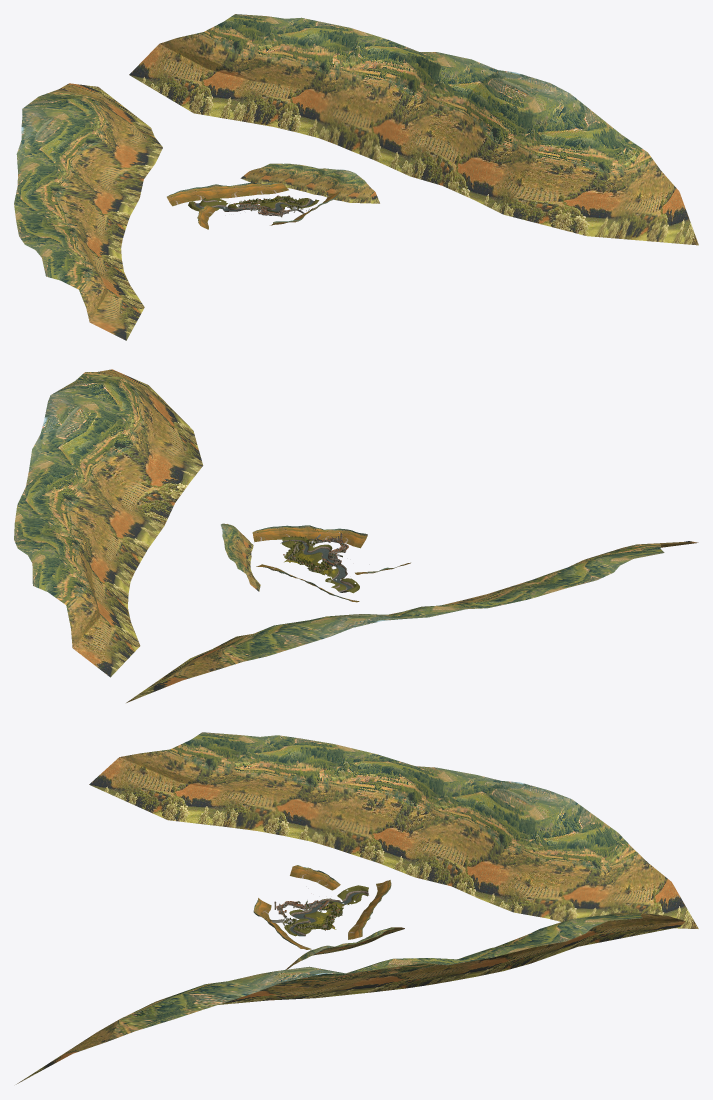
The model's file is map.glb.
3 renders of one model, top to bottom at view 1: azimuth 30°, elevation 25°; view 2: azimuth 150°, elevation 25°; view 3: azimuth 270°, elevation 25°, orthographic. The views are drawn at different scales.
Visible parts, largest first — view 1: backdrop_grp_006_mdl_004_sub_000, backdrop_grp_006_mdl_002_sub_000, backdrop_grp_006_mdl_003_sub_000, backdrop_grp_006_mdl_001_sub_000, backdrop_grp_006_mdl_008_sub_000, backdrop_grp_006_mdl_005_sub_000, backdrop_grp_006_mdl_007_sub_000, backdrop_grp_006_mdl_000_sub_000, backdrop_grp_006_mdl_011_sub_000, backdrop_grp_006_mdl_010_sub_000, backdrop_grp_006_mdl_009_sub_000, backdrop_grp_006_mdl_006_sub_000 (+5 smaller); view 2: backdrop_grp_006_mdl_002_sub_000, backdrop_grp_006_mdl_003_sub_000, backdrop_grp_006_mdl_004_sub_000, backdrop_grp_006_mdl_005_sub_000, backdrop_grp_006_mdl_001_sub_000, backdrop_grp_006_mdl_007_sub_000, backdrop_grp_006_mdl_011_sub_000, backdrop_grp_006_mdl_010_sub_000, backdrop_grp_006_mdl_008_sub_000, backdrop_grp_006_mdl_006_sub_000; view 3: backdrop_grp_006_mdl_007_sub_000, backdrop_grp_006_mdl_008_sub_000, backdrop_grp_006_mdl_011_sub_000, backdrop_grp_006_mdl_010_sub_000, backdrop_grp_006_mdl_006_sub_000, backdrop_grp_006_mdl_004_sub_000, backdrop_grp_006_mdl_003_sub_000, backdrop_grp_006_mdl_001_sub_000, backdrop_grp_006_mdl_009_sub_000, backdrop_grp_006_mdl_002_sub_000, backdrop_grp_006_mdl_005_sub_000, backdrop_grp_006_mdl_000_sub_000.
Part boxes in pixels (bbox=[...]): backdrop_grp_006_mdl_004_sub_000: bbox=[208, 16, 394, 137]; backdrop_grp_006_mdl_002_sub_000: bbox=[410, 70, 569, 214]; backdrop_grp_006_mdl_003_sub_000: bbox=[318, 39, 497, 176]; backdrop_grp_006_mdl_001_sub_000: bbox=[503, 93, 660, 235]; backdrop_grp_006_mdl_008_sub_000: bbox=[16, 109, 143, 230]; backdrop_grp_006_mdl_005_sub_000: bbox=[129, 14, 266, 121]; backdrop_grp_006_mdl_007_sub_000: bbox=[22, 89, 162, 178]; backdrop_grp_006_mdl_000_sub_000: bbox=[587, 168, 698, 245]; backdrop_grp_006_mdl_011_sub_000: bbox=[16, 213, 144, 321]; backdrop_grp_006_mdl_010_sub_000: bbox=[14, 165, 125, 271]; backdrop_grp_006_mdl_009_sub_000: bbox=[90, 292, 144, 340]; backdrop_grp_006_mdl_006_sub_000: bbox=[59, 83, 150, 127]; backdrop_grp_006_mdl_002_sub_000: bbox=[40, 395, 202, 525]; backdrop_grp_006_mdl_003_sub_000: bbox=[17, 434, 163, 581]; backdrop_grp_006_mdl_004_sub_000: bbox=[14, 500, 130, 621]; backdrop_grp_006_mdl_005_sub_000: bbox=[32, 563, 140, 677]; backdrop_grp_006_mdl_001_sub_000: bbox=[51, 372, 202, 464]; backdrop_grp_006_mdl_007_sub_000: bbox=[194, 614, 381, 669]; backdrop_grp_006_mdl_011_sub_000: bbox=[526, 542, 697, 588]; backdrop_grp_006_mdl_010_sub_000: bbox=[436, 568, 567, 609]; backdrop_grp_006_mdl_008_sub_000: bbox=[318, 602, 473, 627]; backdrop_grp_006_mdl_006_sub_000: bbox=[126, 644, 229, 702]; backdrop_grp_006_mdl_007_sub_000: bbox=[451, 782, 647, 921]; backdrop_grp_006_mdl_008_sub_000: bbox=[351, 767, 558, 886]; backdrop_grp_006_mdl_011_sub_000: bbox=[119, 732, 346, 830]; backdrop_grp_006_mdl_010_sub_000: bbox=[258, 744, 444, 853]; backdrop_grp_006_mdl_006_sub_000: bbox=[571, 863, 698, 928]; backdrop_grp_006_mdl_004_sub_000: bbox=[452, 915, 608, 980]; backdrop_grp_006_mdl_003_sub_000: bbox=[317, 958, 489, 997]; backdrop_grp_006_mdl_001_sub_000: bbox=[109, 981, 255, 1040]; backdrop_grp_006_mdl_009_sub_000: bbox=[89, 757, 179, 819]; backdrop_grp_006_mdl_002_sub_000: bbox=[218, 966, 365, 1004]; backdrop_grp_006_mdl_005_sub_000: bbox=[531, 912, 685, 963]; backdrop_grp_006_mdl_000_sub_000: bbox=[16, 1019, 119, 1084].
Bounding box in the file's own units: 206 × 27.61 × 193.
Materials: 100 (99 with a texture image).
